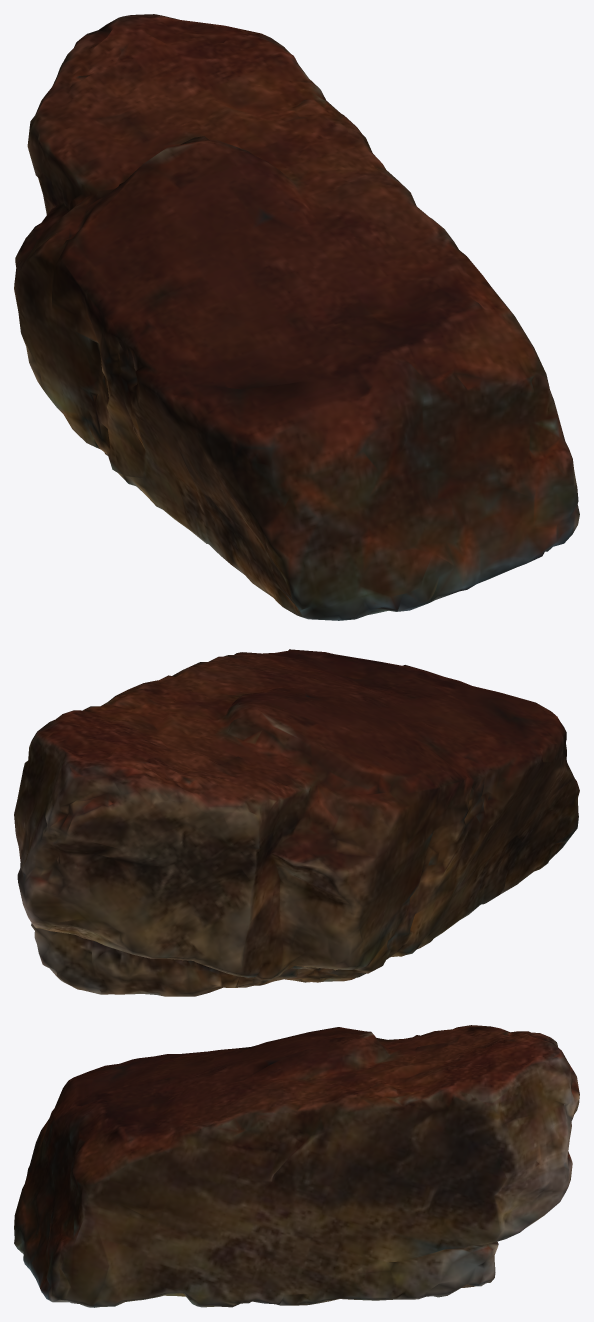
File: rock_real_b.glb
The picture shows the model from 3 angles, top to bottom: view 1: azimuth 30°, elevation 25°; view 2: azimuth 150°, elevation 25°; view 3: azimuth 270°, elevation 25°; orthographic projection. The views are drawn at different scales.
Parts seen in each view (by area): view 1: rock_07; view 2: rock_07; view 3: rock_07.
Part boxes in pixels (x1,y1,x2,y2): rock_07: (14, 14, 579, 620); rock_07: (14, 649, 579, 996); rock_07: (14, 1025, 579, 1307).
Size of the model in its own units: 0.1686 by 0.1437 by 0.3199.
Materials: 1 (1 with a texture image).
